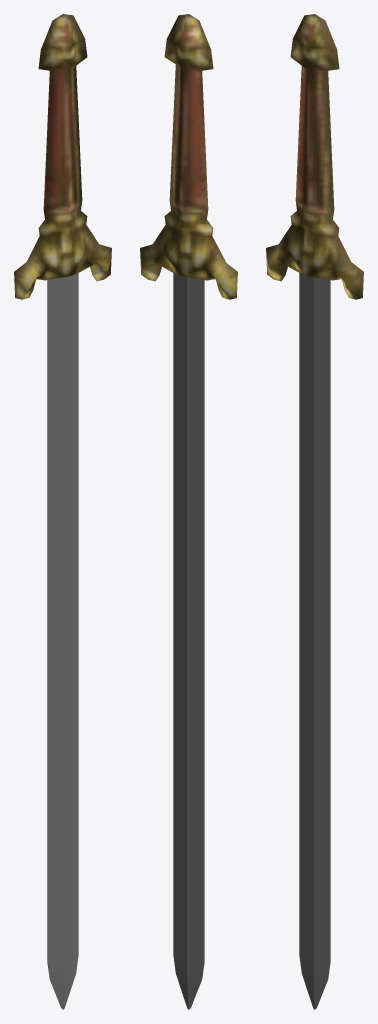
Rendered from swd.fbx.
3 views of the same model, side by side, from view 1: azimuth 30°, elevation 25°; view 2: azimuth 150°, elevation 25°; view 3: azimuth 330°, elevation 25° (orthographic).
Parts seen in each view (by area): view 1: pCube1, pCube2; view 2: pCube1, pCube2; view 3: pCube1, pCube2.
Boxes of the visible parts, left/top/right/bottom form: pCube1: left=47, top=273, right=78, bottom=1009; pCube2: left=14, top=14, right=111, bottom=299; pCube1: left=173, top=273, right=204, bottom=1009; pCube2: left=140, top=14, right=237, bottom=299; pCube1: left=299, top=273, right=330, bottom=1009; pCube2: left=266, top=14, right=363, bottom=299.
Size of the model in its own units: 9.18 by 89.12 by 2.28.
